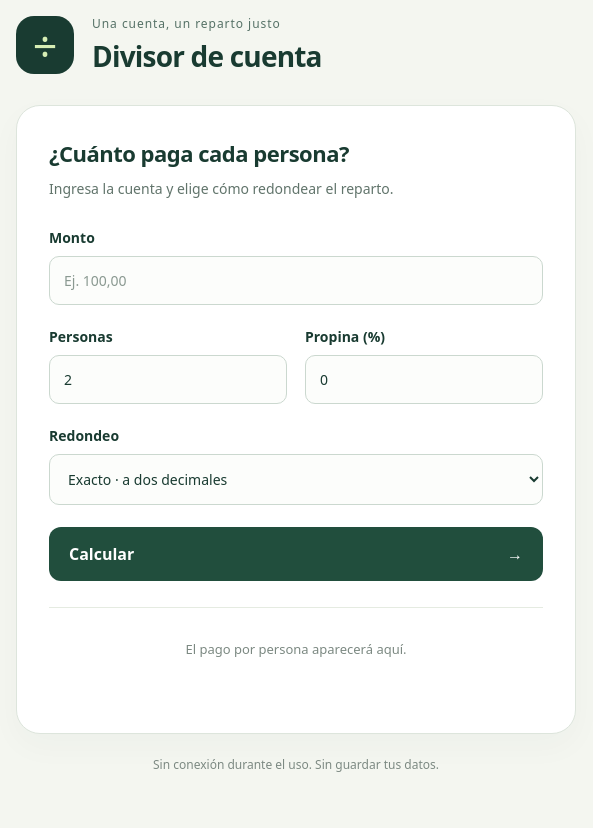
Scenario: Tres pruebas obligatorias de pantalla › 100, 4, 10 muestra 27.50
Type "100" into the field labelled "Monto".
click(296, 281); type("100")  # box [49,256,543,305]
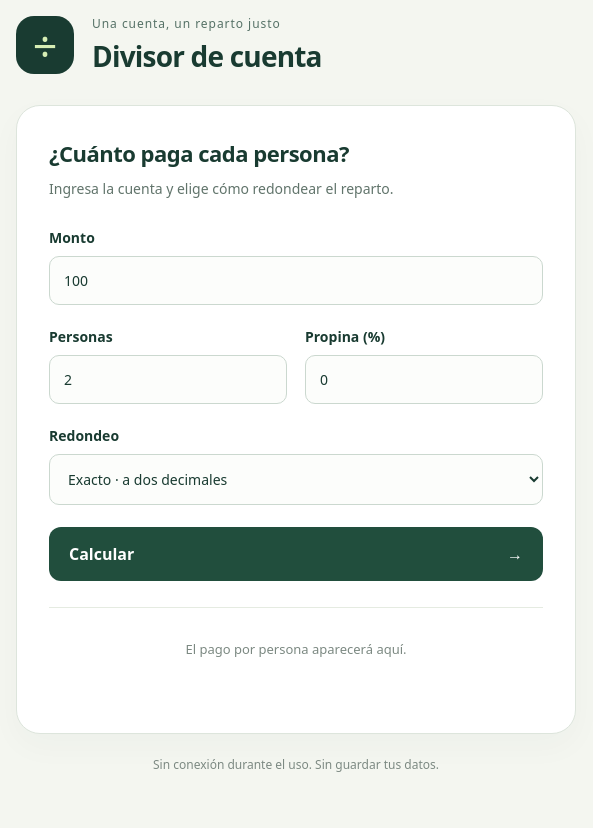
Replace the text in the field labelled "Personas" with "4" at coordinates (168, 380), box [49,355,287,404]
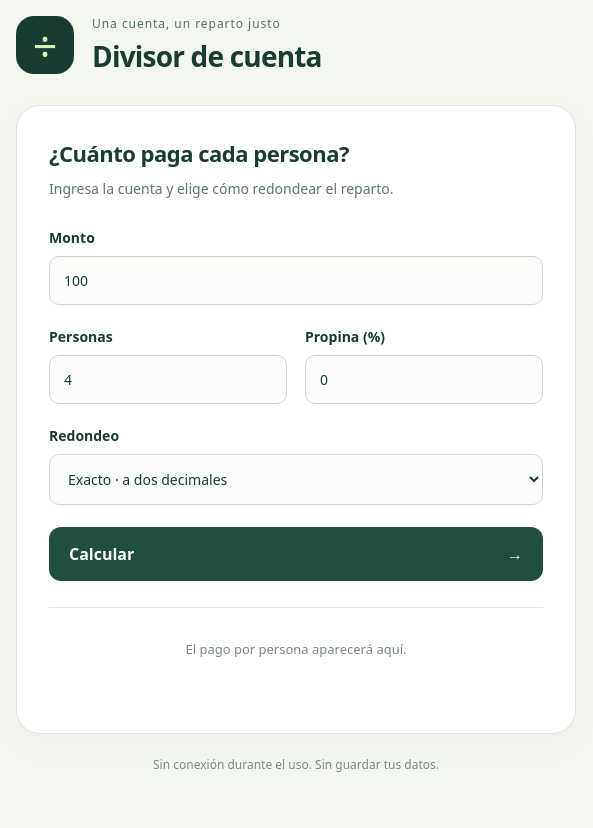
Replace the text in the field labelled "Propina (%)" with "10" at coordinates (424, 380), box [305,355,543,404]
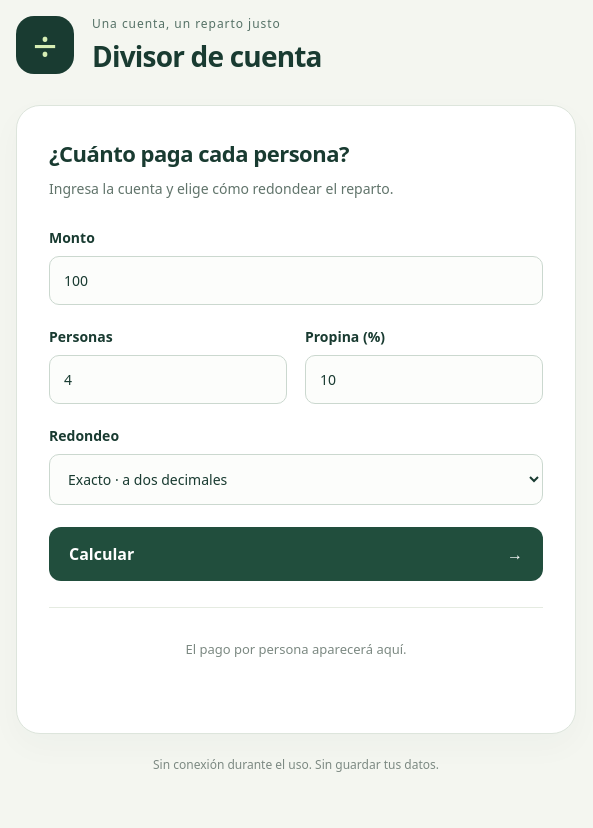
Click the button "Calcular →".
click(102, 554)  # box [49,527,543,581]
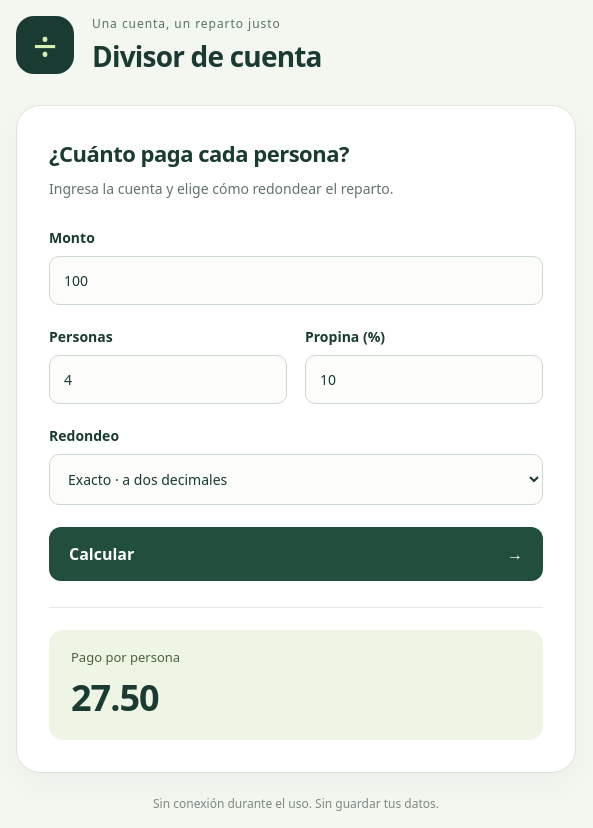
Result: the text with test id "resultado" reads "27.50" at [71,673,159,722]
